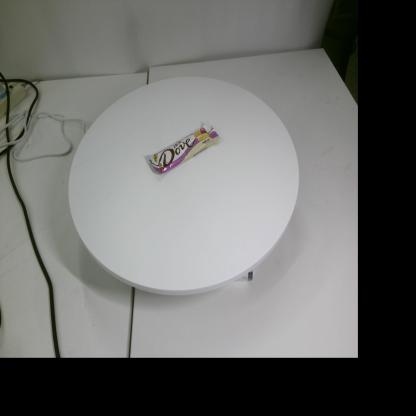Chocolate: (146, 120, 220, 174)
